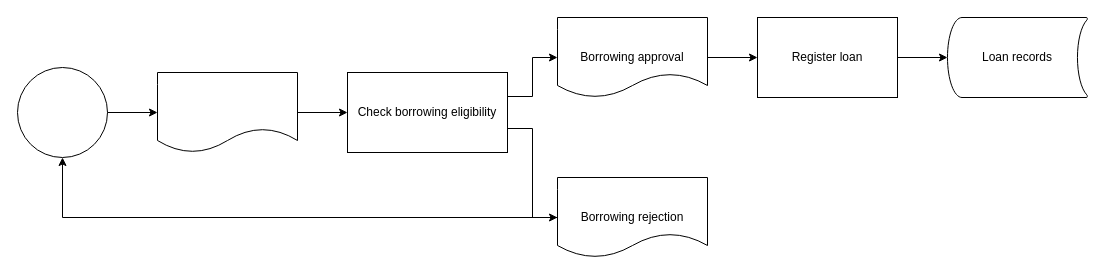
Image size: 1105x275. Some labels were removed from this diagram. Each missing label, with the centre of its shape:
"Borrowing request" goes at [227,112].
"Reader" goes at [62,112].
